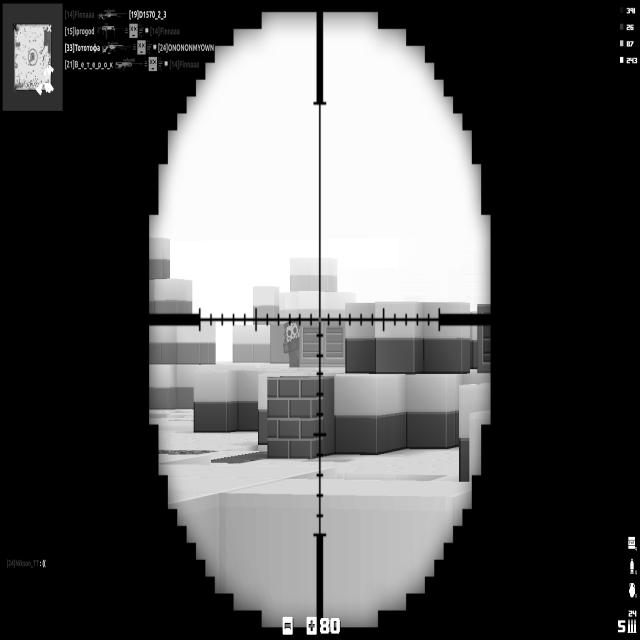Head: (283, 321, 299, 345)
Player: (282, 319, 300, 368)
